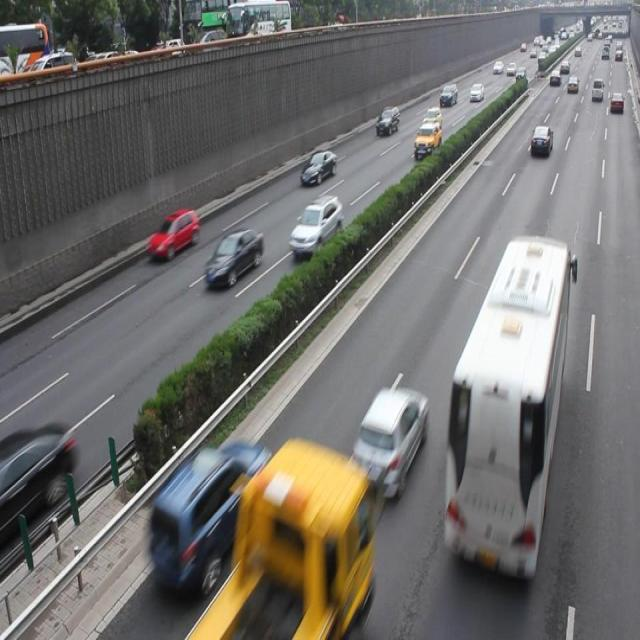bus: (187, 437, 373, 640)
car: (152, 438, 271, 592), (1, 420, 78, 536), (351, 384, 427, 497), (203, 226, 265, 288), (289, 194, 343, 254), (147, 207, 198, 261), (300, 148, 337, 186)
van: (443, 235, 570, 576)
